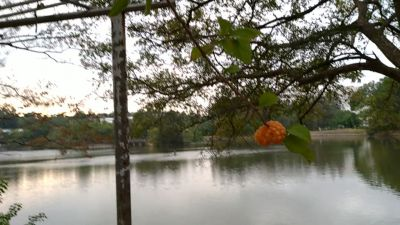eggs: (252, 118, 289, 147)
